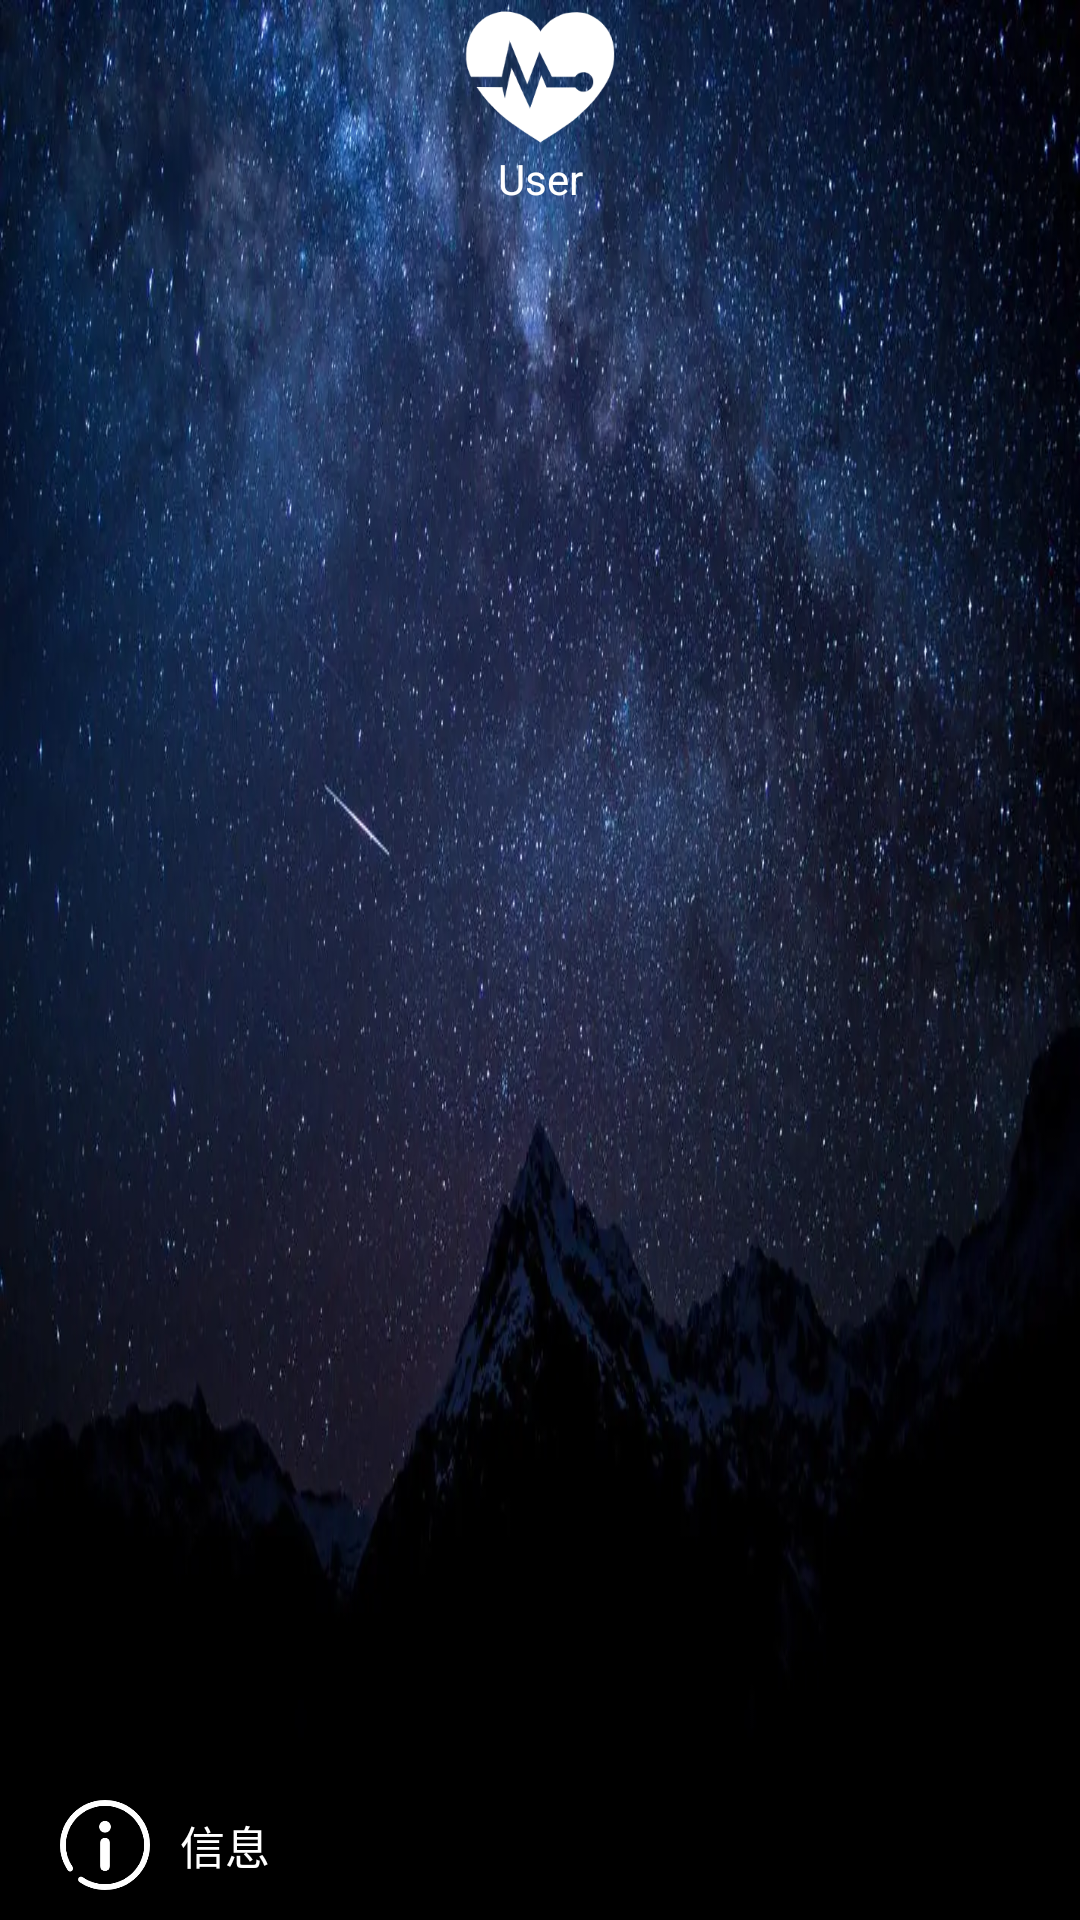

Point at icon controls on the screen. Image size 1080×1920, points as [x,y].
info: [105,1845]
